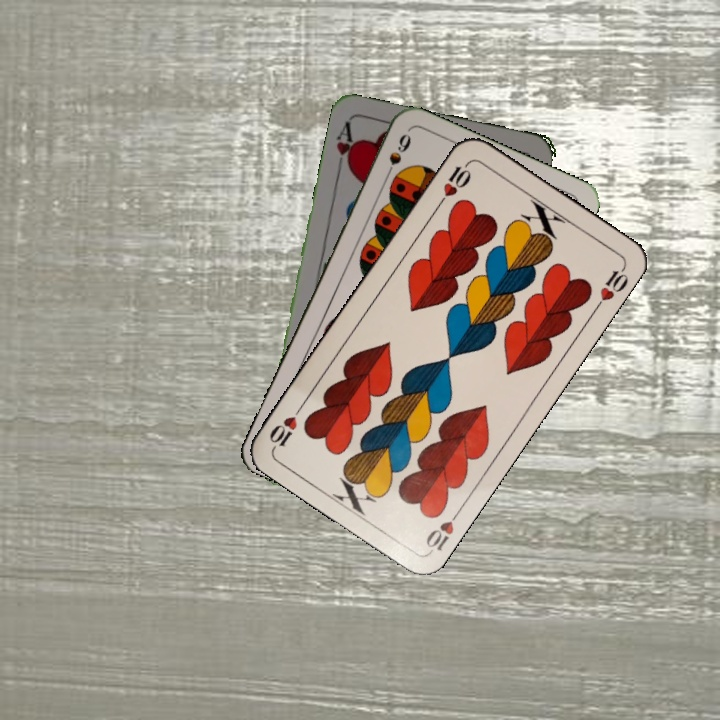H10: (421, 504, 464, 556), (433, 158, 474, 210)
HA: (332, 118, 359, 177)
S9: (380, 129, 414, 185)
